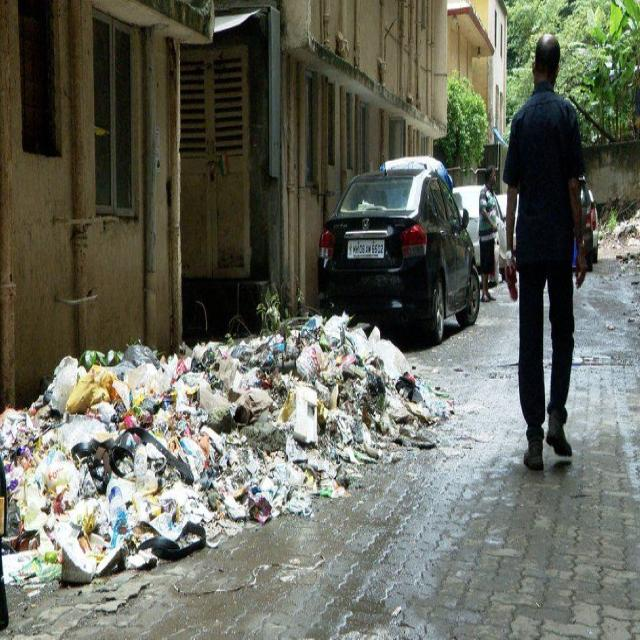garbage: (0, 296, 474, 607)
